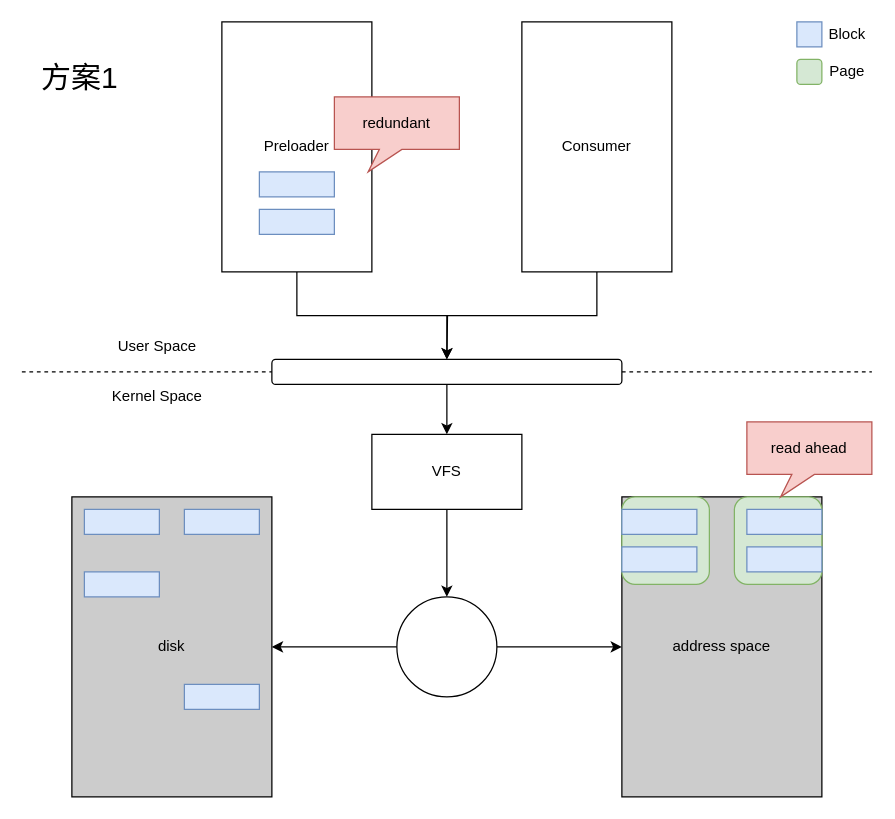
This 895x819 diagram has some shape labels left out. The centre of each missing label's shape, as x and y in pixels:
inode: point 446,646
system call: point 446,371
